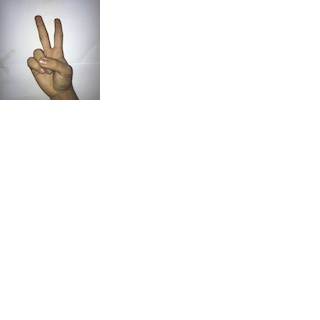scissors: (25, 11, 81, 97)
